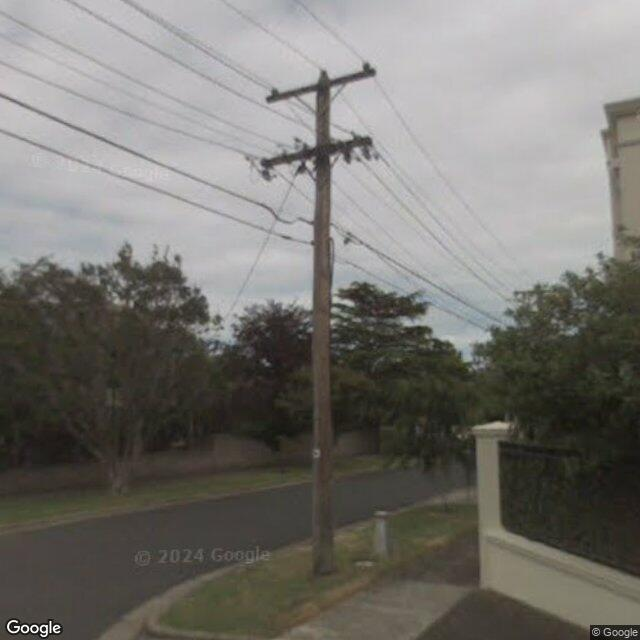HV-transmission: (272, 62, 370, 97)
crossarm: (265, 68, 376, 104), (260, 136, 373, 168)
timber-pole: (312, 77, 336, 575)
